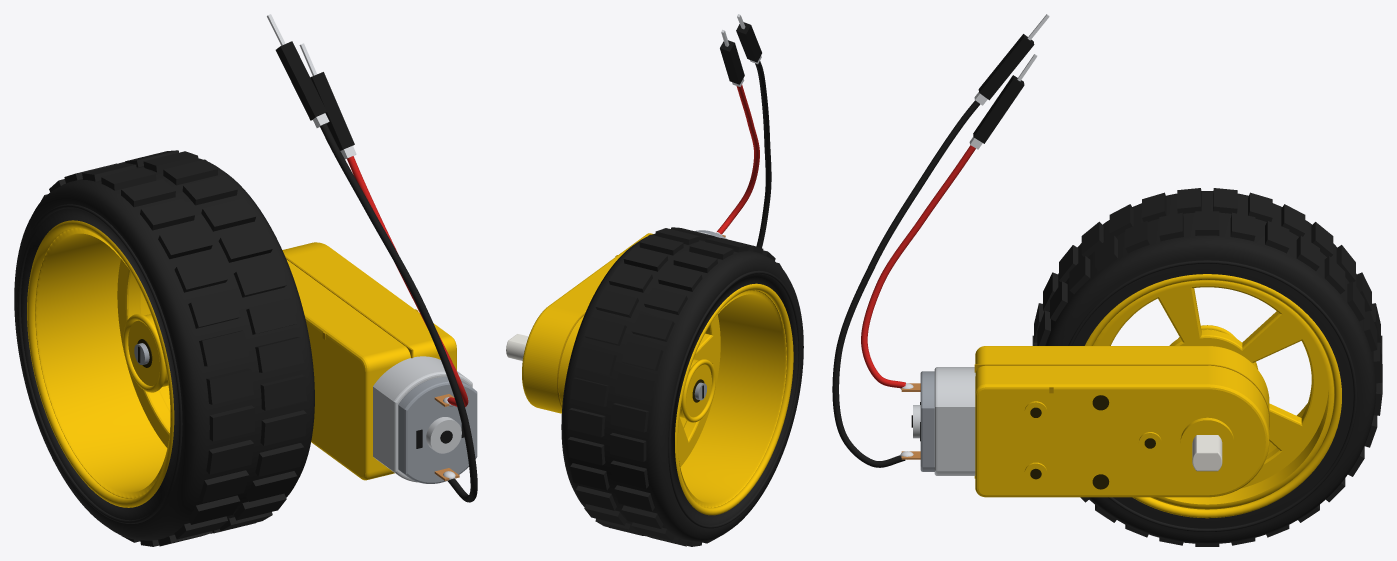
Rendered from tt-motor-wheel.glb.
The picture shows the model from 3 angles, left to right: view 1: azimuth 30°, elevation 25°; view 2: azimuth 150°, elevation 25°; view 3: azimuth 270°, elevation 25°; orthographic projection. The views are drawn at different scales.
Size of the model in its own units: 0.0564 by 0.1104 by 0.1059.
